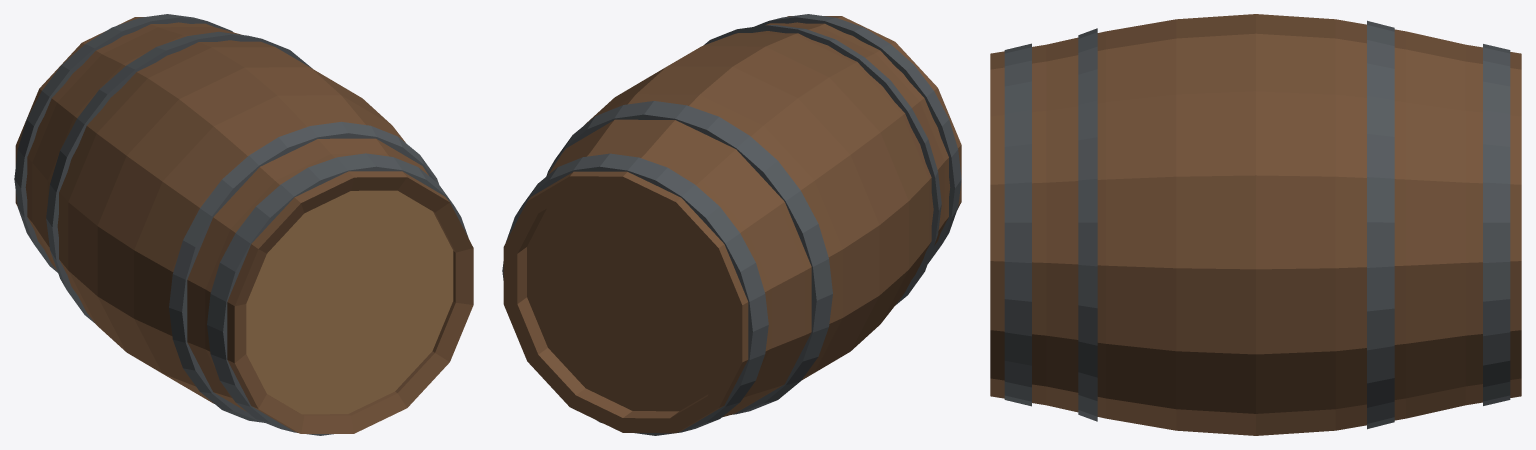
File: Baril.fbx
3 renders of one model, left to right at view 1: azimuth 30°, elevation 25°; view 2: azimuth 150°, elevation 25°; view 3: azimuth 270°, elevation 25°, orthographic. The views are drawn at different scales.
Visible parts, largest first — view 1: Baril.003; view 2: Baril.003; view 3: Baril.003.
Part boxes in pixels (<box>): Baril.003: <box>14,14,473,435</box>; Baril.003: <box>502,14,961,435</box>; Baril.003: <box>990,14,1521,435</box>.
Size of the model in its own units: 72.05 by 73.9 by 93.04.
